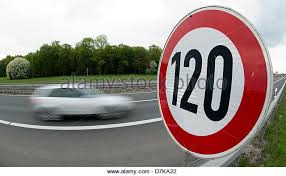Speed_limit_120km: (154, 7, 273, 158)
